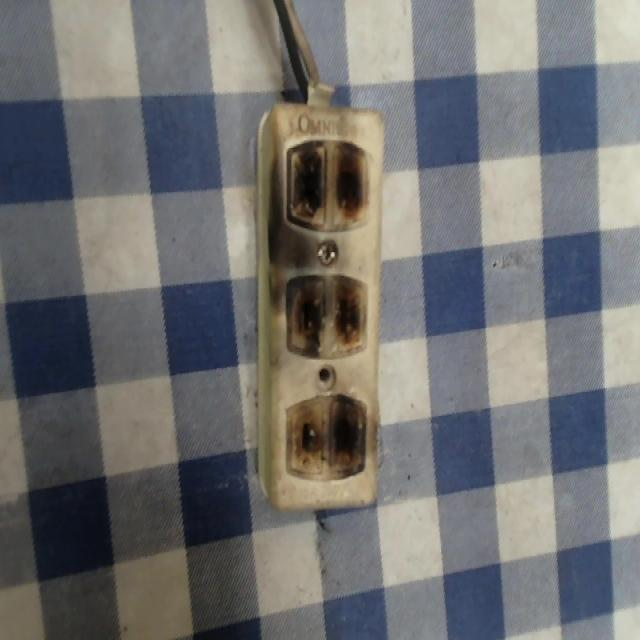-: (280, 132, 372, 232), (280, 387, 369, 481), (283, 267, 372, 360)
